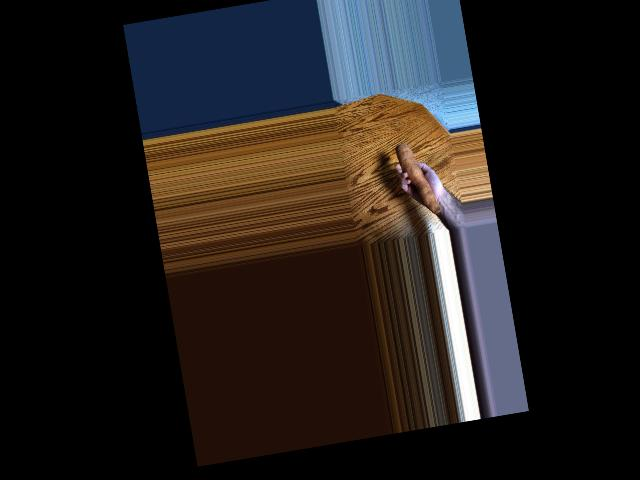sweet_potato: (393, 138, 441, 217)
